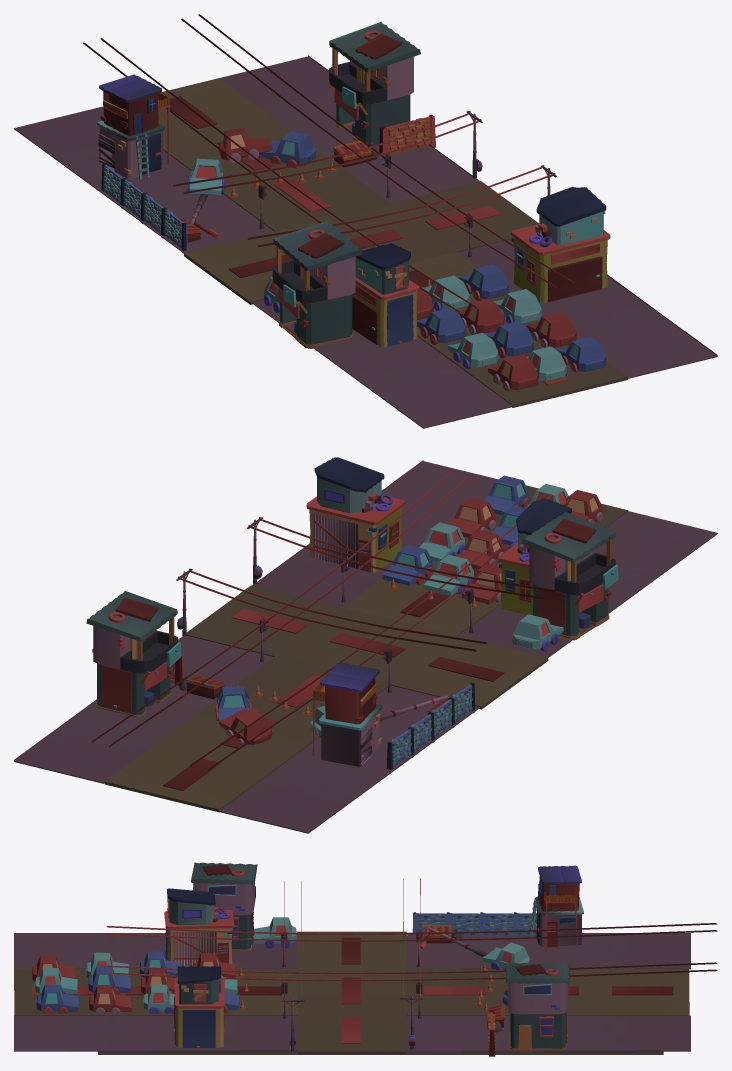
File: MODULOC_ChaoSeparado.fbx
3 views of the same model, one above another, from view 1: azimuth 30°, elevation 25°; view 2: azimuth 150°, elevation 25°; view 3: azimuth 270°, elevation 25° (orthographic). The views are drawn at different scales.
Parts seen in each view (by area): view 1: Chao, Props; view 2: Chao, Props; view 3: Chao, Props.
Part boxes in pixels (bbox=[...]): Chao: bbox=[14, 55, 717, 428]; Props: bbox=[83, 14, 610, 391]; Chao: bbox=[14, 460, 717, 833]; Props: bbox=[86, 457, 618, 771]; Chao: bbox=[14, 931, 690, 1054]; Props: bbox=[32, 862, 717, 1056].
Size of the model in its own units: 2606 by 765 by 6067.
